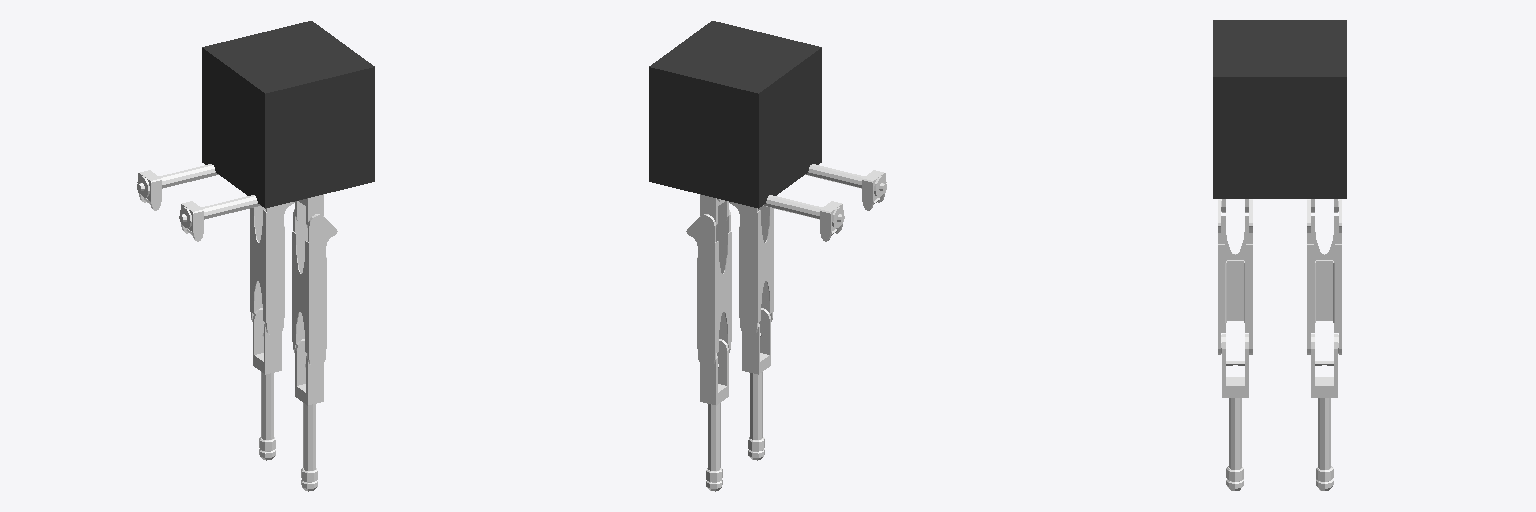
The robot description file, URDF, robot "biped":
<robot name="biped">
    <link name="base">
	    <visual>
	      <geometry>
	        <box size="0.30 0.30 0.30"/>
	      </geometry>
	      <material name="gray">
	        <color rgba="0.3 0.3 0.3 1.0"/>
	      </material>
	    </visual>        
    </link>
    
    <!-- LEFT LEG -->
    <link name="L_hipassembly">
	    <visual>
	      <origin rpy="0.0 0.0 0.0" xyz="0.0 0.0 0.0"/>
	      <geometry>
	        <mesh filename="package://xpp_hyq_biped_description/meshes/leg/hip.dae" scale="1 1 1"/>
	      </geometry>
	      <material name="white"/>
	    </visual>        
    </link>
    <link name="L_upperleg">
	    <visual>
	      <origin rpy="0.0 0.0 0.0" xyz="0.0 0.0 0.0"/>
	      <geometry>
	        <mesh filename="package://xpp_hyq_biped_description/meshes/leg/upper.dae" scale="1 1 1"/>
	      </geometry>
	      <material name="blue"/>
	    </visual>
    </link>
    <link name="L_lowerleg">
	    <visual>
	      <geometry>
	        <mesh filename="package://xpp_hyq_biped_description/meshes/leg/lower.dae" scale="1 1 1"/>
	      </geometry>
	      <material name="blue"/>
	    </visual>        
    </link>
    
    <joint name="L_haa_joint" type="revolute">
        <origin xyz="0.00000 0.1 -0.15000" rpy="2.0344439357957036 1.5707962290814481 -1.1071487177940917"/>
        <parent link="base"/>
        <child  link="L_hipassembly"/>
        <limit effort="200" lower="-1.6" upper="1.6" velocity="1.0"/>
        <axis xyz="0 0 1"/>
    </joint>
    <joint name="L_hfe_joint" type="revolute">
        <origin xyz="0.08000 0.00000 0.00000" rpy="1.5707963705062866 -0.0 0.0"/>
        <parent link="L_hipassembly"/>
        <child  link="L_upperleg"/>
        <limit effort="200" lower="-1.6" upper="1.6" velocity="1.0"/>
        <axis xyz="0 0 1"/>
    </joint>
    <joint name="L_kfe_joint" type="revolute">
        <origin xyz="0.35000 0.00000 0.00000" rpy="0.0 0.0 0.0"/>
        <parent link="L_upperleg"/>
        <child  link="L_lowerleg"/>
        <limit effort="200" lower="-1.6" upper="1.6" velocity="1.0"/>
        <axis xyz="0 0 1"/>
    </joint>
    
    
    
    <!-- RIGHT LEG -->
    <link name="R_hipassembly">
      <visual>
        <origin rpy="0.0 0.0 0.0" xyz="0.0 0.0 0.0"/>
        <geometry>
          <mesh filename="package://xpp_hyq_biped_description/meshes/leg/hip.dae" scale="1 1 1"/>
        </geometry>
        <material name="white"/>
      </visual>        
    </link>
    <link name="R_upperleg">
      <visual>
        <origin rpy="0.0 0.0 0.0" xyz="0.0 0.0 0.0"/>
        <geometry>
          <mesh filename="package://xpp_hyq_biped_description/meshes/leg/upper.dae" scale="1 1 1"/>
        </geometry>
        <material name="blue"/>
      </visual>
    </link>
    <link name="R_lowerleg">
      <visual>
        <geometry>
          <mesh filename="package://xpp_hyq_biped_description/meshes/leg/lower.dae" scale="1 1 1"/>
        </geometry>
        <material name="blue"/>
      </visual>        
    </link>
    
    <joint name="R_haa_joint" type="revolute">
        <origin xyz="0.00000 -0.1 -0.15000" rpy="2.0344439357957036 1.5707962290814481 -1.1071487177940917"/>
        <parent link="base"/>
        <child  link="R_hipassembly"/>
        <limit effort="200" lower="-1.6" upper="1.6" velocity="1.0"/>
        <axis xyz="0 0 1"/>
    </joint>
    <joint name="R_hfe_joint" type="revolute">
        <origin xyz="0.08000 0.00000 0.00000" rpy="1.5707963705062866 -0.0 0.0"/>
        <parent link="R_hipassembly"/>
        <child  link="R_upperleg"/>
        <limit effort="200" lower="-1.6" upper="1.6" velocity="1.0"/>
        <axis xyz="0 0 1"/>
    </joint>
    <joint name="R_kfe_joint" type="revolute">
        <origin xyz="0.35000 0.00000 0.00000" rpy="0.0 0.0 0.0"/>
        <parent link="R_upperleg"/>
        <child  link="R_lowerleg"/>
        <limit effort="200" lower="-1.6" upper="1.6" velocity="1.0"/>
        <axis xyz="0 0 1"/>
    </joint>
    
    
</robot>

--- Render facts (derived) ---
3 views of the same robot in one strip: view 1: azimuth 30°, elevation 25°; view 2: azimuth 150°, elevation 25°; view 3: azimuth 270°, elevation 25° (orthographic).
Model biped with 7 links and 6 joints (6 revolute), rooted at base, posed all joints at 0.
Links seen in each view (by area): view 1: base, R_upperleg, L_upperleg, L_lowerleg, R_lowerleg, R_hipassembly, L_hipassembly; view 2: base, L_upperleg, R_upperleg, L_lowerleg, R_lowerleg, L_hipassembly, R_hipassembly; view 3: base, L_upperleg, R_upperleg, L_lowerleg, R_lowerleg.
Boxes of the visible links, x1=… form: base: x1=202, y1=21, x2=374, y2=208; R_upperleg: x1=292, y1=209, x2=337, y2=366; L_upperleg: x1=250, y1=202, x2=294, y2=335; L_lowerleg: x1=253, y1=308, x2=281, y2=460; R_lowerleg: x1=295, y1=339, x2=323, y2=491; R_hipassembly: x1=179, y1=194, x2=323, y2=241; L_hipassembly: x1=137, y1=164, x2=218, y2=210; base: x1=649, y1=21, x2=821, y2=208; L_upperleg: x1=686, y1=209, x2=731, y2=366; R_upperleg: x1=729, y1=202, x2=773, y2=335; L_lowerleg: x1=700, y1=339, x2=728, y2=491; R_lowerleg: x1=742, y1=308, x2=770, y2=460; L_hipassembly: x1=700, y1=194, x2=844, y2=241; R_hipassembly: x1=805, y1=164, x2=886, y2=210; base: x1=1213, y1=20, x2=1346, y2=198; L_upperleg: x1=1307, y1=199, x2=1341, y2=354; R_upperleg: x1=1218, y1=199, x2=1252, y2=354; L_lowerleg: x1=1311, y1=334, x2=1338, y2=490; R_lowerleg: x1=1221, y1=334, x2=1248, y2=490.
Bounding box of the posed robot: 0.5008 × 0.3 × 1.09 m (x, y, z).
6 mesh visuals loaded from 3 distinct referenced files (3 Collada DAE).